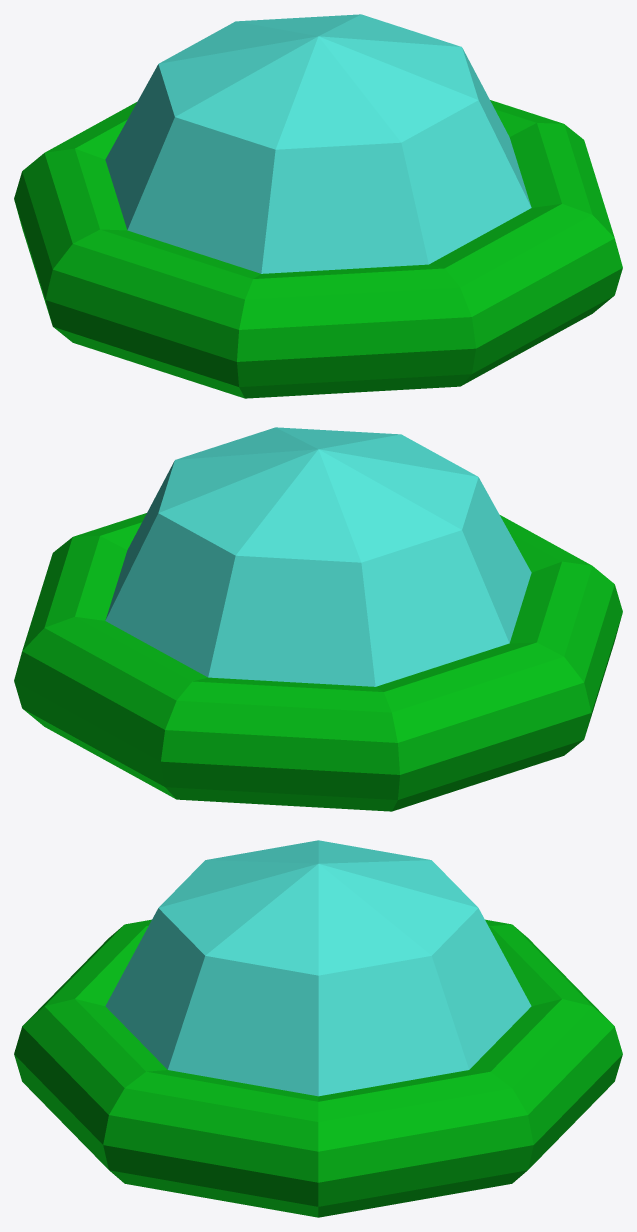
Rendered from нло.fbx.
3 views of the same model, one above another, from view 1: azimuth 30°, elevation 25°; view 2: azimuth 150°, elevation 25°; view 3: azimuth 270°, elevation 25° (orthographic). The views are drawn at different scales.
Parts seen in each view (by area): view 1: Torus; view 2: Torus; view 3: Torus.
Boxes of the visible parts, bbox=[...] form: Torus: bbox=[14, 14, 622, 398]; Torus: bbox=[14, 427, 622, 811]; Torus: bbox=[14, 840, 622, 1217].
Size of the model in its own units: 250 by 111 by 250.
